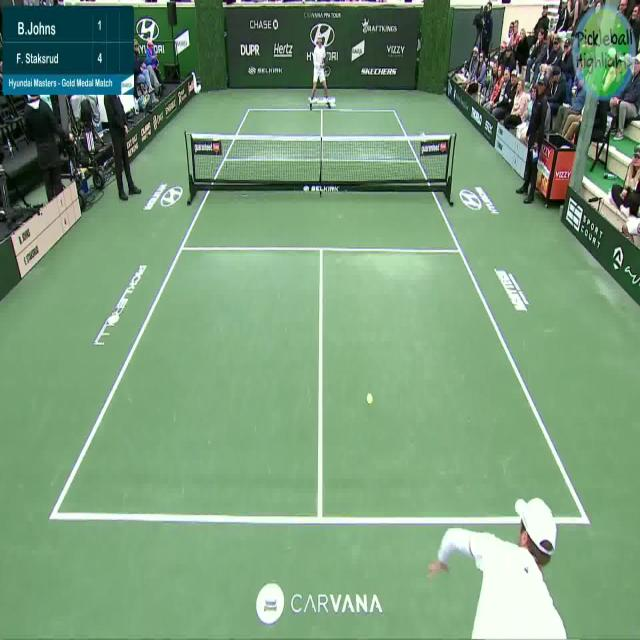ball: (368, 392, 372, 406)
